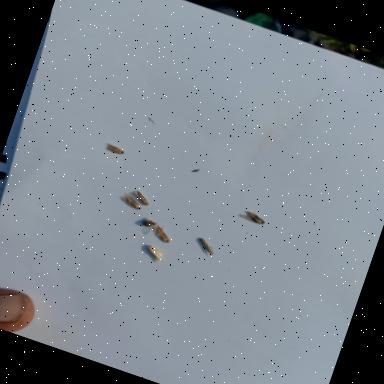pbw: (238, 208, 268, 228), (118, 190, 145, 212), (150, 222, 175, 244), (194, 235, 219, 257), (130, 187, 154, 208), (104, 141, 126, 157)
